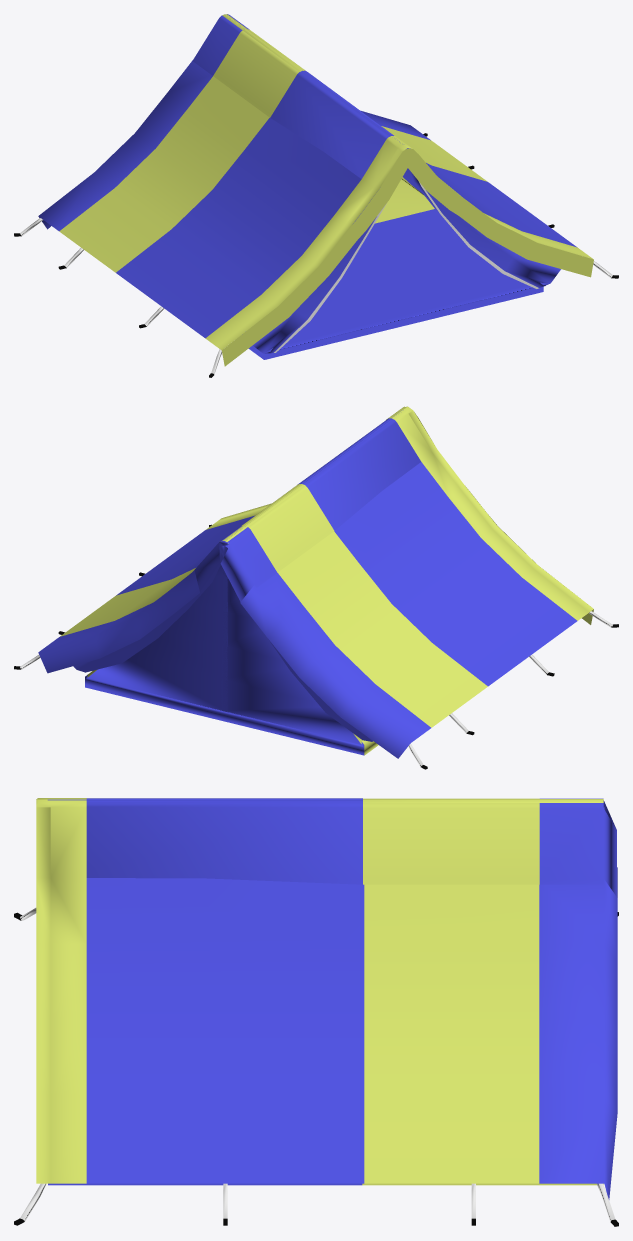
The model's file is Apocalipse Z - CABANA_2.fbx.
3 views of the same model, one above another, from view 1: azimuth 30°, elevation 25°; view 2: azimuth 150°, elevation 25°; view 3: azimuth 270°, elevation 25° (orthographic). The views are drawn at different scales.
Visible parts, largest first — view 1: Cube; view 2: Cube; view 3: Cube.
Part boxes in pixels (x1,y1,x2,y2): Cube: (14, 14, 618, 377); Cube: (14, 406, 618, 769); Cube: (14, 798, 618, 1226).
Size of the model in its own units: 757 by 316 by 618.
